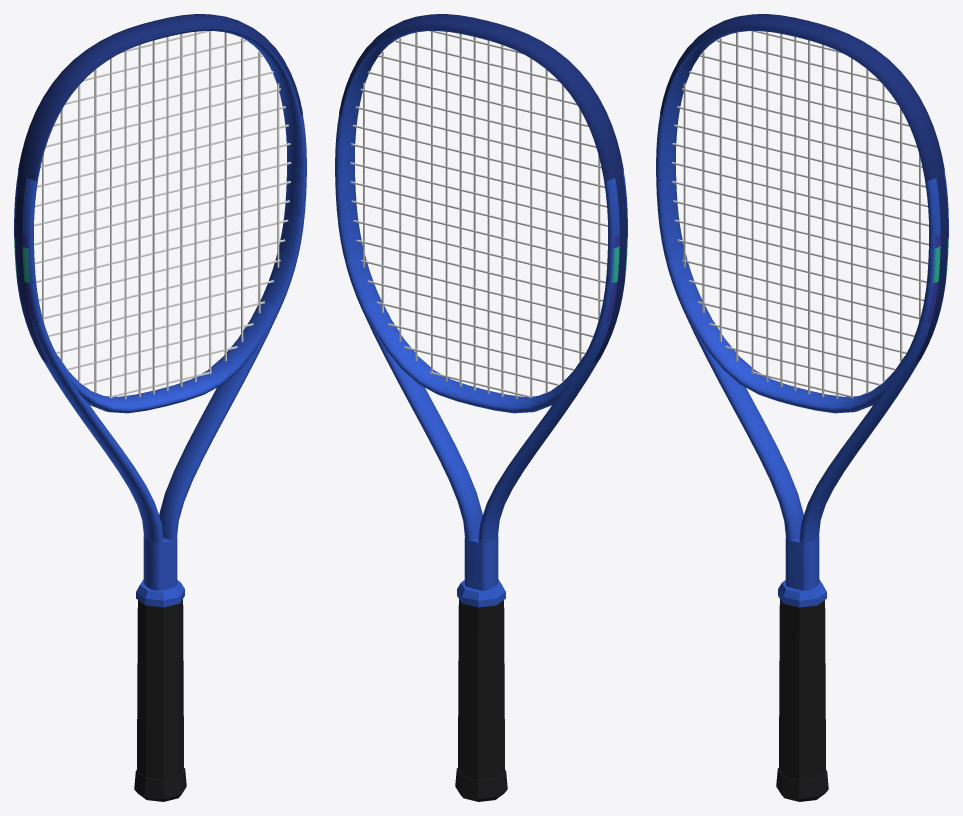
The model's file is yonex-ezone-ace.glb.
3 views of the same model, side by side, from view 1: azimuth 30°, elevation 25°; view 2: azimuth 150°, elevation 25°; view 3: azimuth 330°, elevation 25° (orthographic).
Visible parts, largest first — view 1: frame, strings_mains, strings_crosses, grip, bumper, grommets, butt_cap, collar; view 2: frame, strings_mains, strings_crosses, grip, bumper, grommets, butt_cap, collar; view 3: frame, strings_mains, strings_crosses, grip, bumper, grommets, butt_cap, collar.
Part boxes in pixels (bbox=[...]): frame: bbox=[14, 28, 306, 590]; strings_mains: bbox=[42, 31, 279, 399]; strings_crosses: bbox=[34, 31, 291, 397]; grip: bbox=[137, 599, 183, 779]; bumper: bbox=[18, 14, 302, 180]; grommets: bbox=[15, 173, 47, 362]; butt_cap: bbox=[134, 768, 186, 801]; collar: bbox=[136, 579, 184, 607]; frame: bbox=[335, 28, 627, 590]; strings_mains: bbox=[363, 31, 600, 398]; strings_crosses: bbox=[350, 31, 607, 398]; grip: bbox=[458, 599, 504, 779]; bumper: bbox=[339, 14, 623, 180]; grommets: bbox=[594, 173, 626, 362]; butt_cap: bbox=[455, 768, 507, 801]; collar: bbox=[457, 579, 505, 607]; frame: bbox=[656, 28, 948, 590]; strings_mains: bbox=[683, 31, 920, 399]; strings_crosses: bbox=[671, 31, 928, 397]; grip: bbox=[779, 599, 825, 779]; bumper: bbox=[660, 14, 944, 180]; grommets: bbox=[915, 173, 947, 362]; butt_cap: bbox=[776, 768, 828, 801]; collar: bbox=[778, 579, 826, 607].
Bounding box in the file's own units: 0.266 × 0.6861 × 0.0396.
